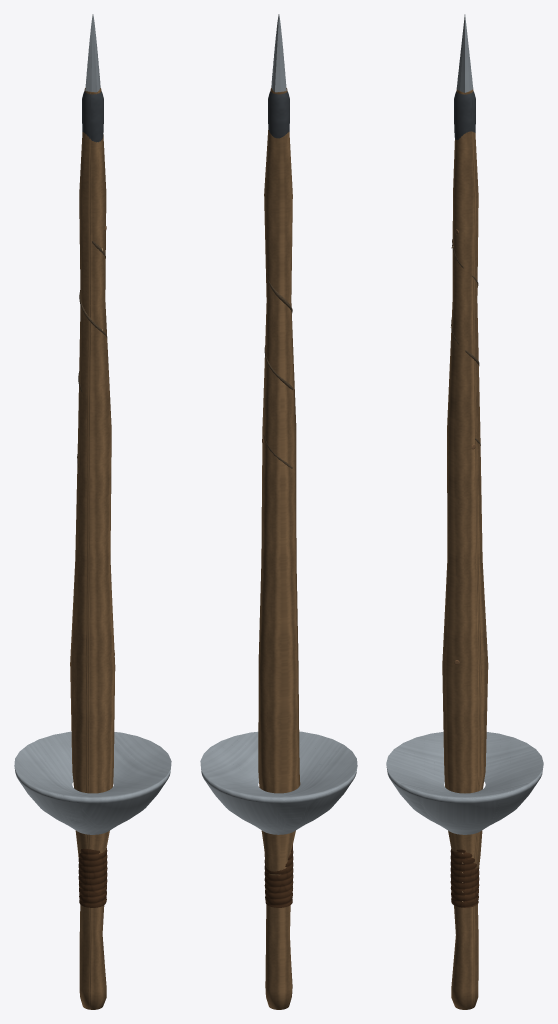
Rendered from war-lance.glb.
3 renders of one model, left to right at view 1: azimuth 30°, elevation 25°; view 2: azimuth 150°, elevation 25°; view 3: azimuth 270°, elevation 25°, orthographic.
Visible parts, largest first — view 1: wood / oiled hardwood, steel / forged blade steel, leather / oiled leather wrap, darksteel / oil-blackened fittings; view 2: wood / oiled hardwood, steel / forged blade steel, leather / oiled leather wrap, darksteel / oil-blackened fittings; view 3: wood / oiled hardwood, steel / forged blade steel, leather / oiled leather wrap, darksteel / oil-blackened fittings.
Part boxes in pixels (x1,y1,x2,y2): wood / oiled hardwood: (70,88,115,1009); steel / forged blade steel: (14,14,171,834); leather / oiled leather wrap: (78,848,107,907); darksteel / oil-blackened fittings: (82,91,103,142); wood / oiled hardwood: (258,88,300,1009); steel / forged blade steel: (200,14,357,834); leather / oiled leather wrap: (264,845,293,907); darksteel / oil-blackened fittings: (268,91,289,138); wood / oiled hardwood: (442,89,488,1009); steel / forged blade steel: (386,14,543,834); leather / oiled leather wrap: (450,849,479,907); darksteel / oil-blackened fittings: (454,91,475,139).
Size of the model in its own units: 0.304 by 2.11 by 0.304.
7 materials, 5 textured.
